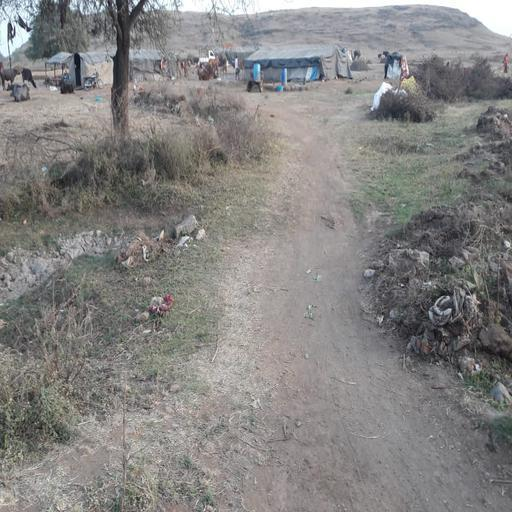vehicle_track: (248, 92, 505, 507)
